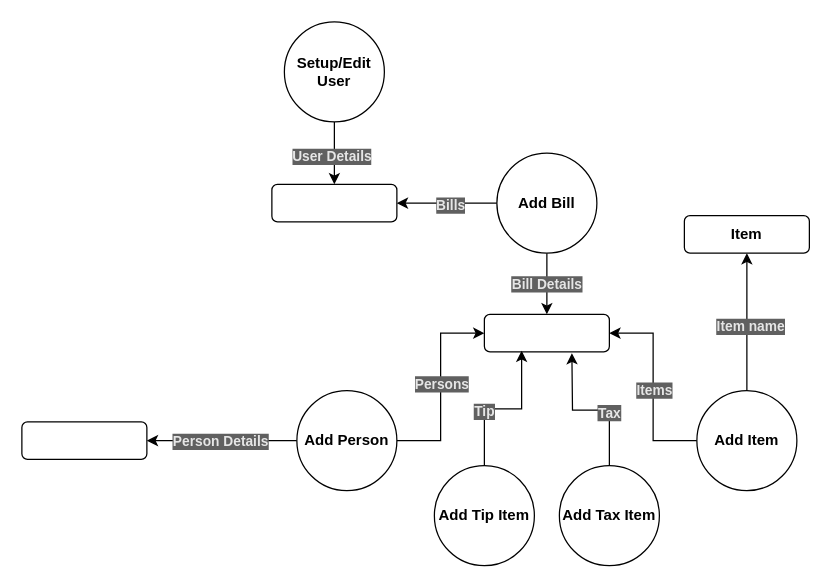
The diagram is 831 pixels wide and 588 high, and some of its shapes have lost their labels. The box of each missing label's shape, as (x1, y1, x2, y2) in pixels:
Bill: (483, 313, 609, 352)
Person: (21, 421, 147, 459)
User Account: (271, 183, 397, 222)
